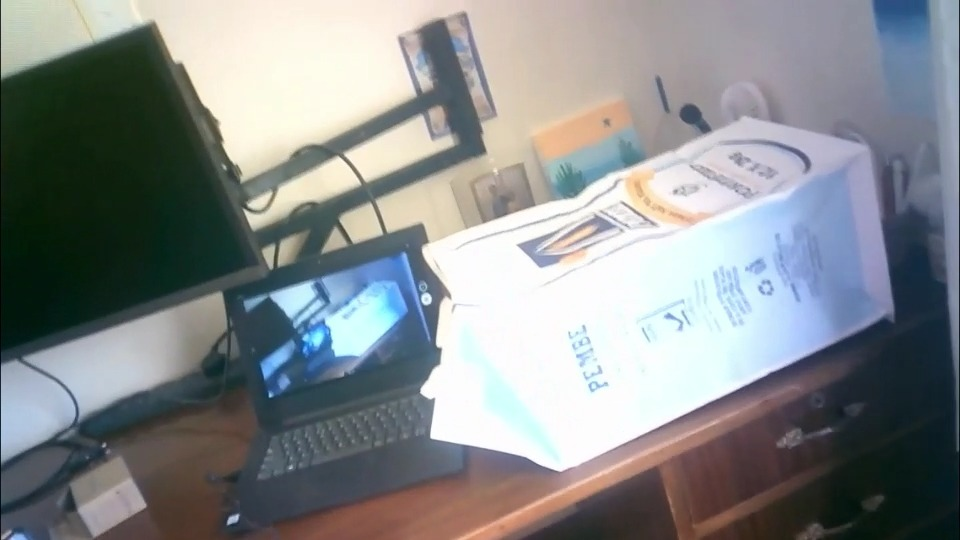wheat_flour_blue_label: (434, 117, 899, 472)
